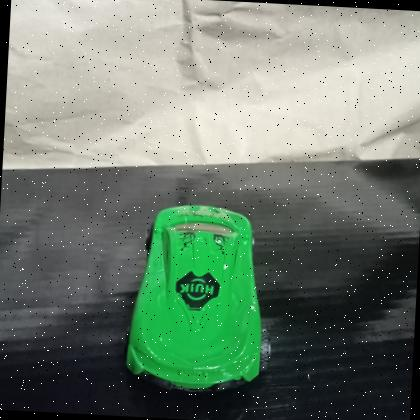Car: (116, 194, 288, 400)
